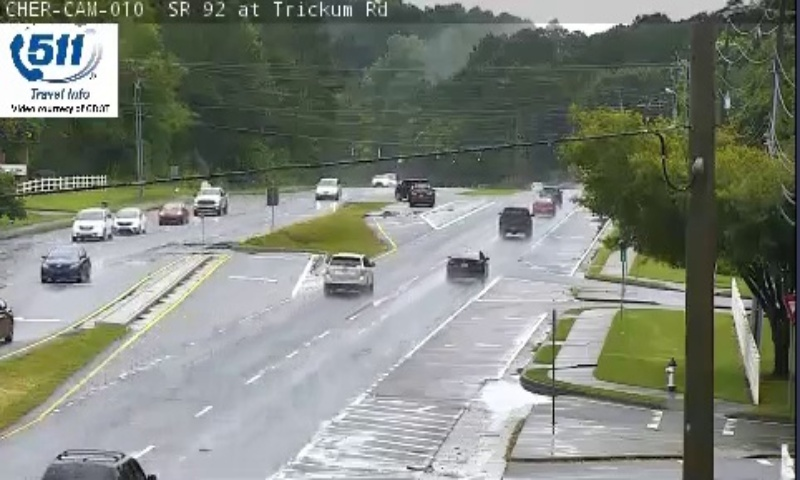car: (323, 252, 373, 290), (446, 249, 487, 279), (500, 207, 532, 238)
